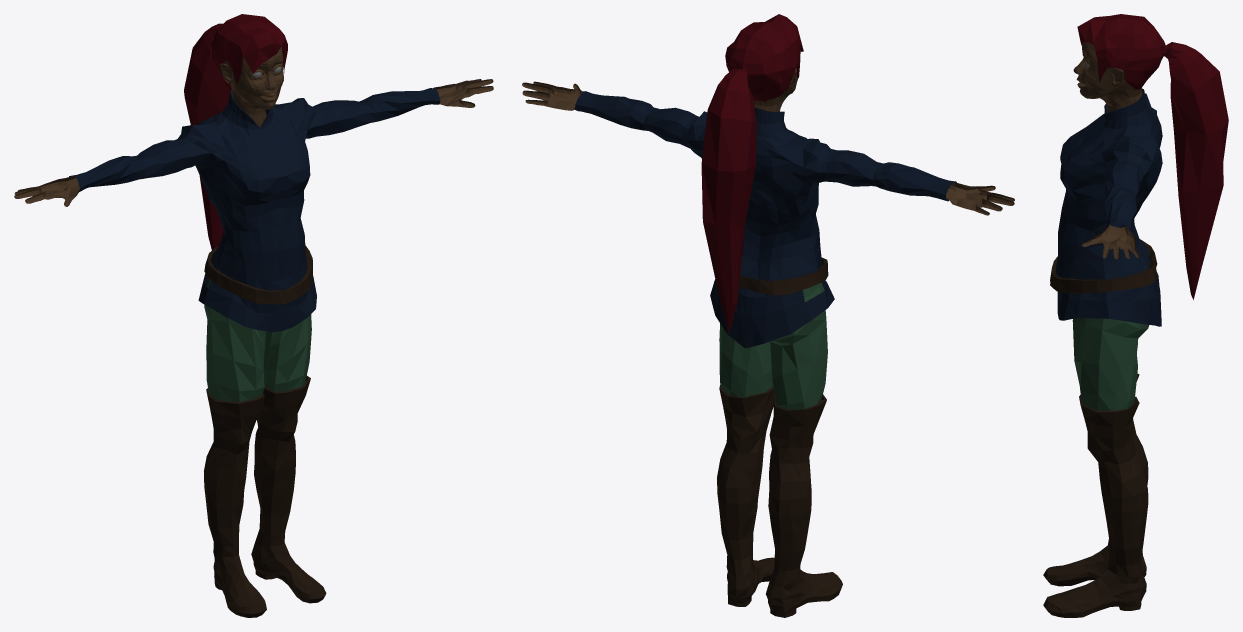
Rendered from mint_UV.obj.
3 views of the same model, side by side, from view 1: azimuth 30°, elevation 25°; view 2: azimuth 150°, elevation 25°; view 3: azimuth 270°, elevation 25° (orthographic). The views are drawn at different scales.
Visible parts, largest first — view 1: legs_polySurface7_polySurface5_polySurface1_base_mesh__1_:Generi; view 2: legs_polySurface7_polySurface5_polySurface1_base_mesh__1_:Generi; view 3: legs_polySurface7_polySurface5_polySurface1_base_mesh__1_:Generi.
Boxes of the visible parts, x1,y1,x2,y2 form: legs_polySurface7_polySurface5_polySurface1_base_mesh__1_:Generi: [14, 14, 493, 617]; legs_polySurface7_polySurface5_polySurface1_base_mesh__1_:Generi: [522, 14, 1014, 617]; legs_polySurface7_polySurface5_polySurface1_base_mesh__1_:Generi: [1043, 14, 1228, 617].
Bounding box in the file's own units: 33.84 × 38.12 × 11.08.
